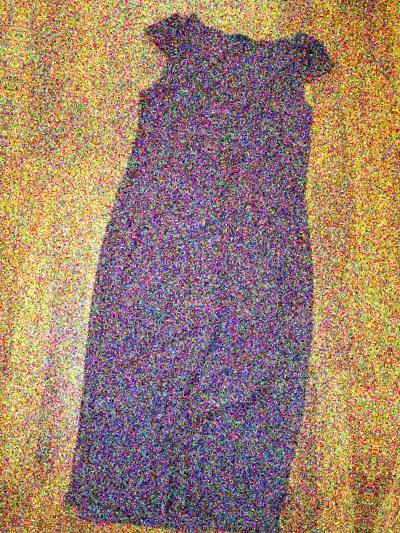Dress: (42, 0, 382, 533)
